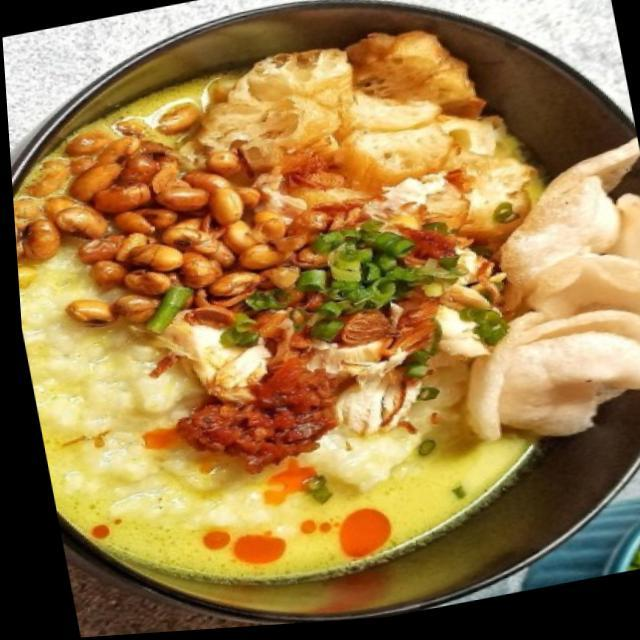bubur ayam: (3, 5, 634, 628)
mangkuk: (0, 0, 640, 640), (504, 484, 640, 592)
